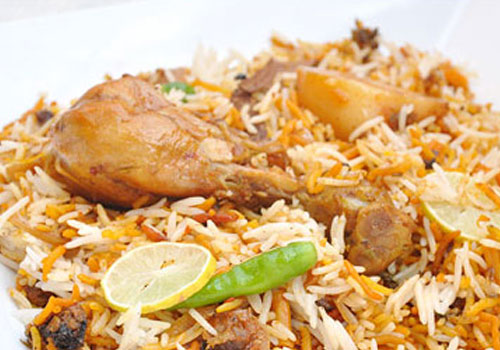Biryani: (14, 21, 495, 336)
